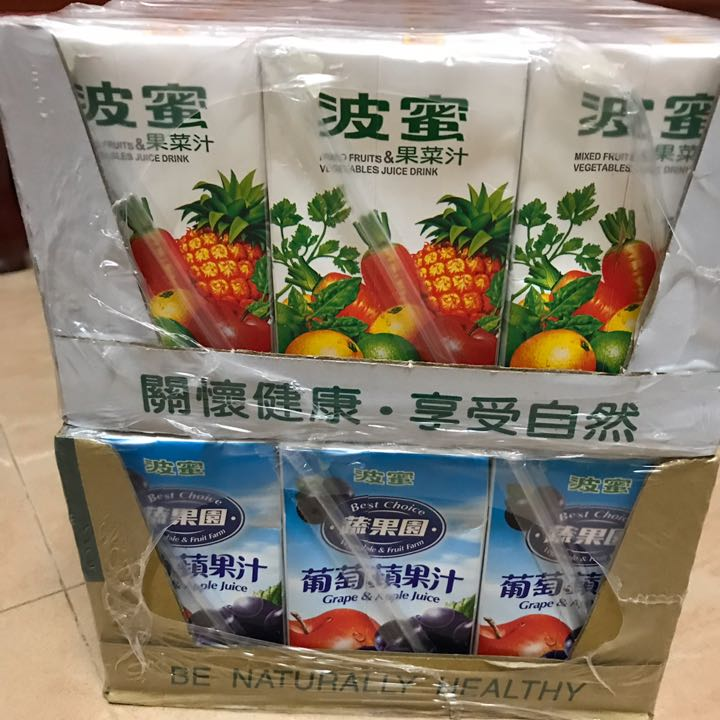vegetables juice: (262, 38, 542, 390), (495, 36, 706, 382), (54, 25, 265, 371)
